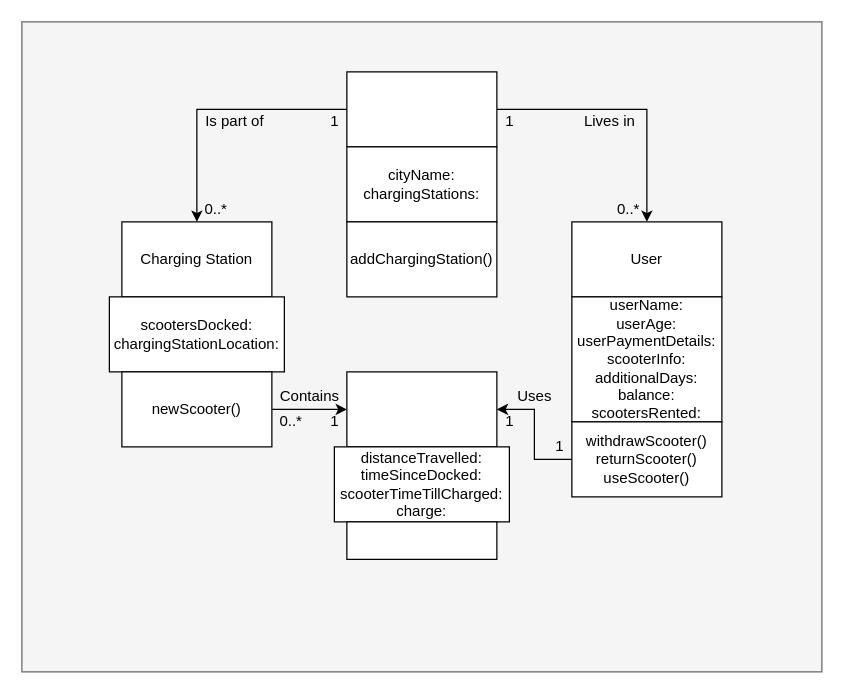
This 844x694 diagram has some shape labels left out. The shapes that lost their labels are listed below. From the top down, each one's centre as x and y in pixels, then its label:
point (421, 109): City
point (421, 409): Scooter
